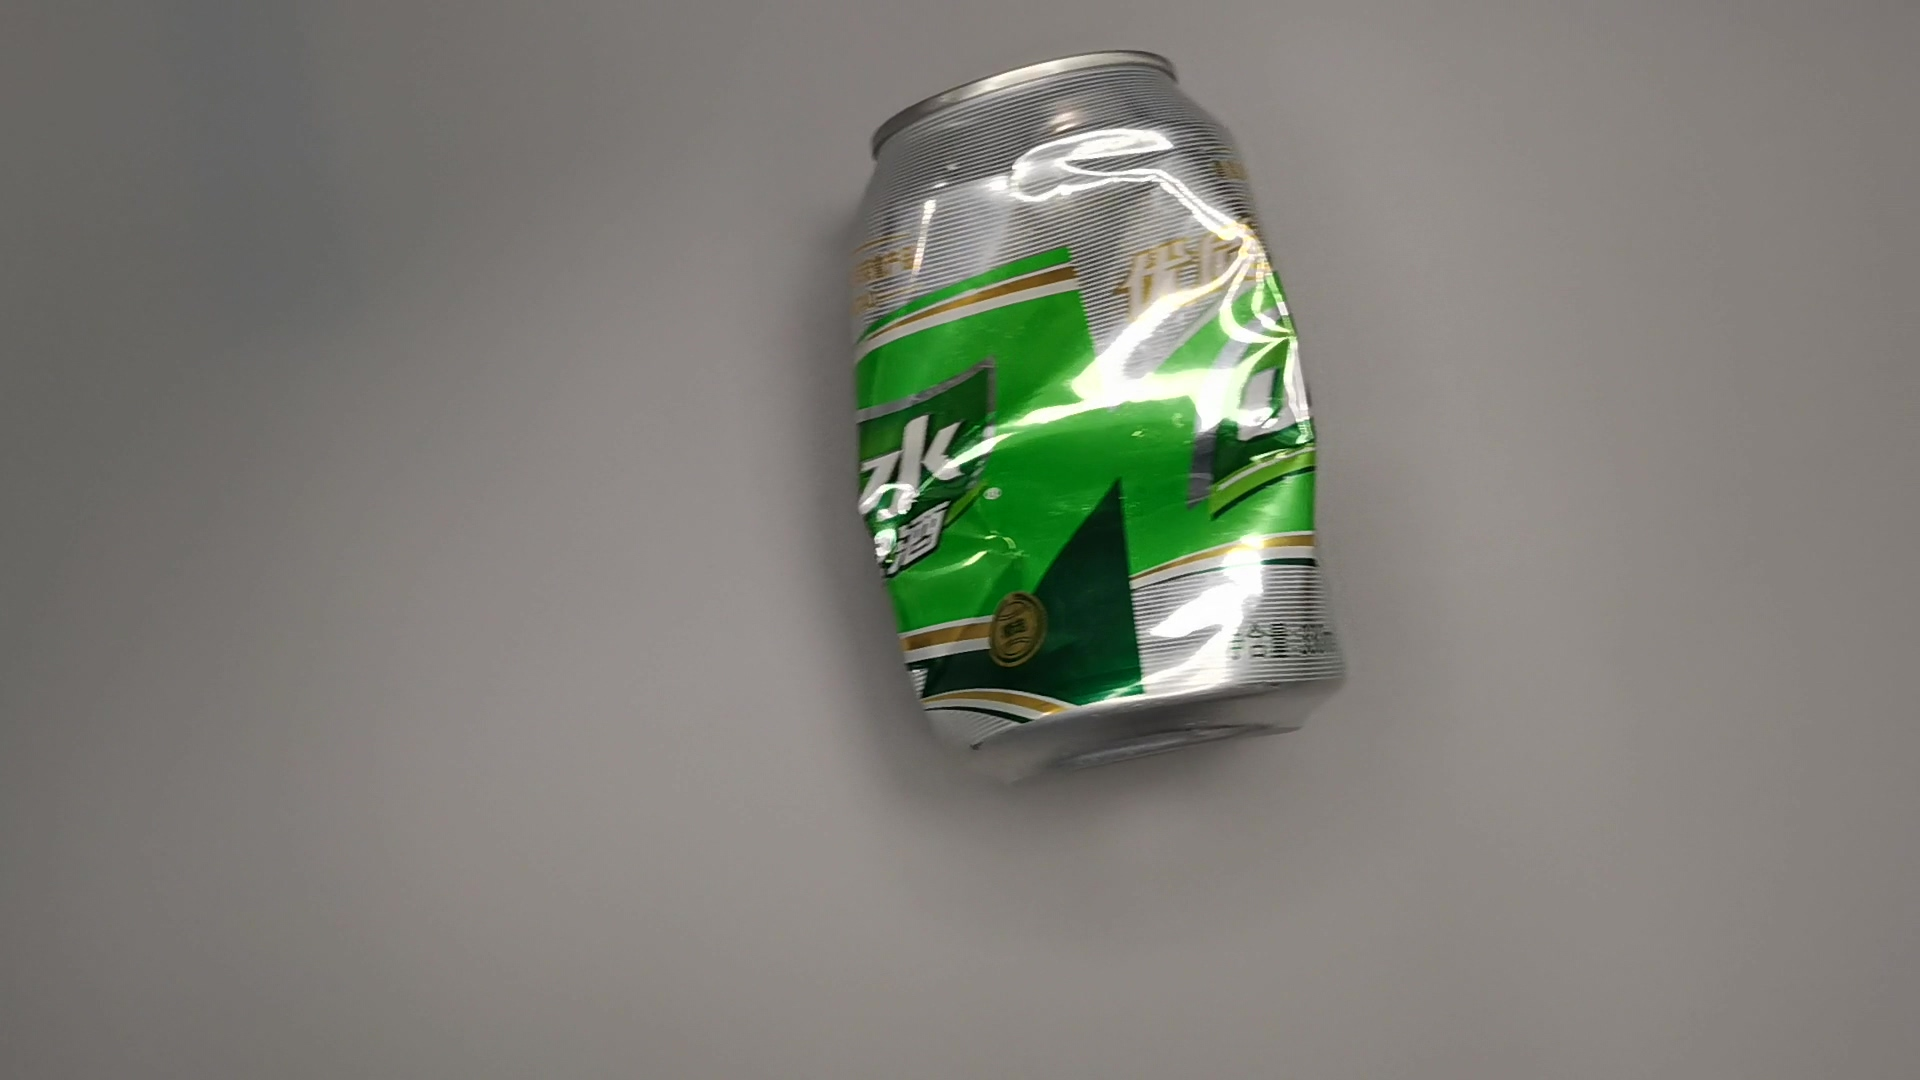can: (825, 41, 1364, 793)
